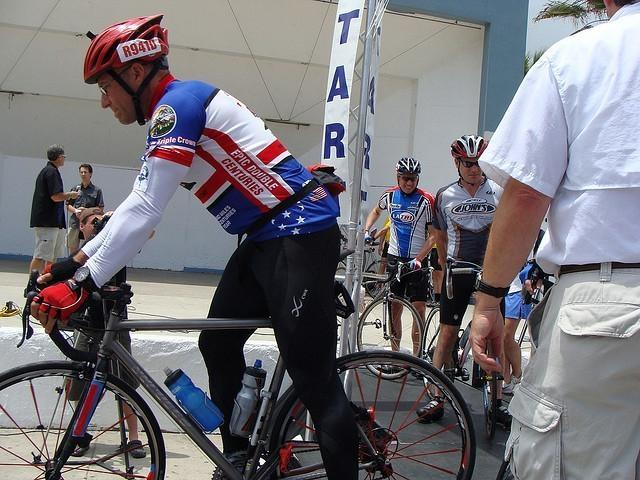bicycle: (2, 274, 481, 444), (356, 234, 423, 380), (422, 254, 483, 362), (362, 442, 475, 474), (479, 374, 499, 444)
